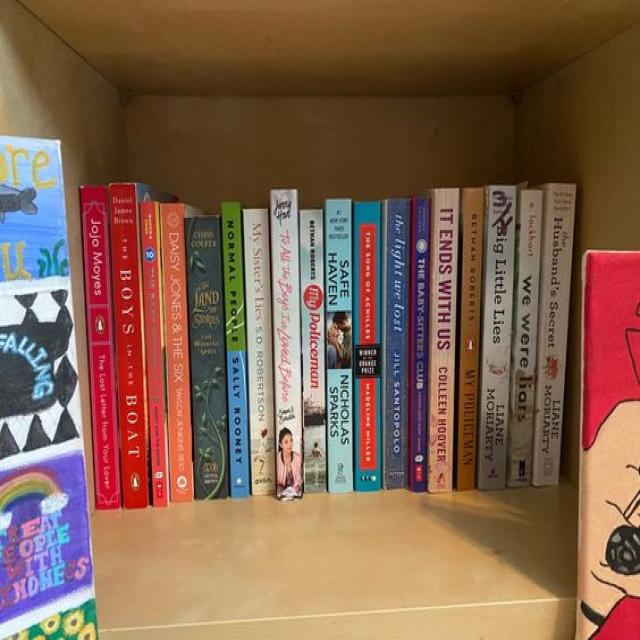book: (79, 187, 124, 509), (532, 184, 577, 486), (109, 182, 148, 509), (185, 214, 228, 502), (480, 185, 516, 489), (507, 190, 543, 487), (427, 189, 460, 493), (160, 202, 193, 502), (271, 189, 302, 500), (244, 209, 276, 496), (139, 202, 169, 506), (222, 201, 251, 497), (325, 199, 354, 492), (353, 202, 381, 492), (383, 197, 410, 488), (457, 187, 483, 489), (299, 210, 326, 492), (410, 196, 431, 493)
